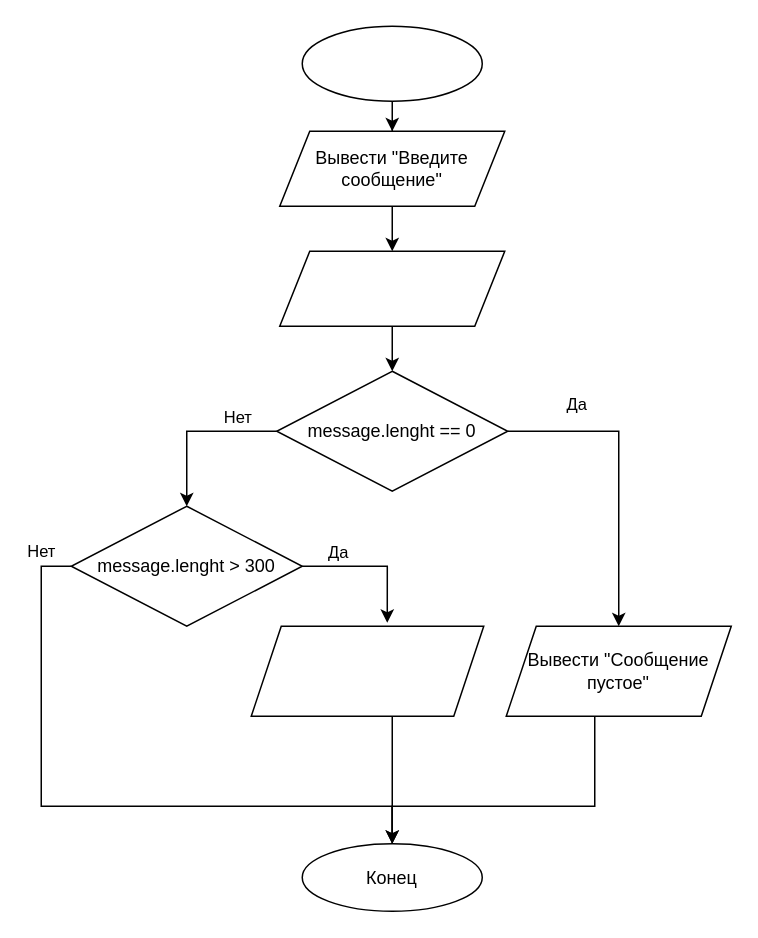
Some shapes in this 758 by 938 pixel diagram are drawn without their labels. Here are the shapes that lost their labels. From the top down, the centre of each, then its label:
[391,63]: Начало
[391,288]: Считать message
[367,670]: Вывести "Сообщение имеет более 300 символов"
